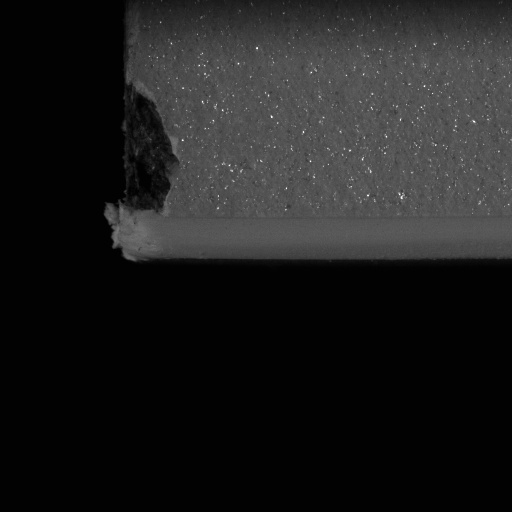bengque: (120, 83, 180, 216)
